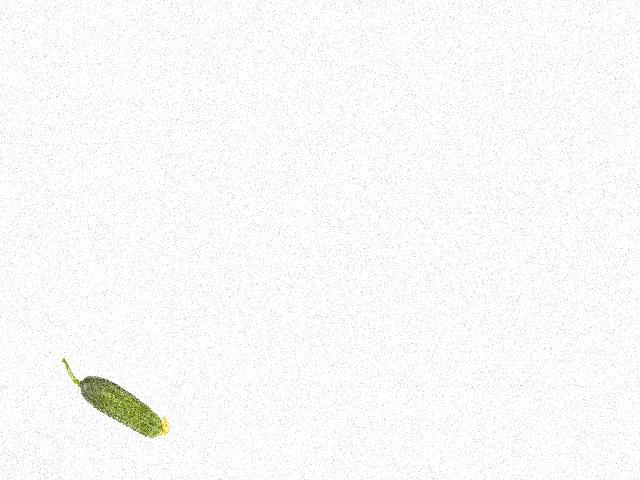cucumber: (62, 358, 171, 438)
